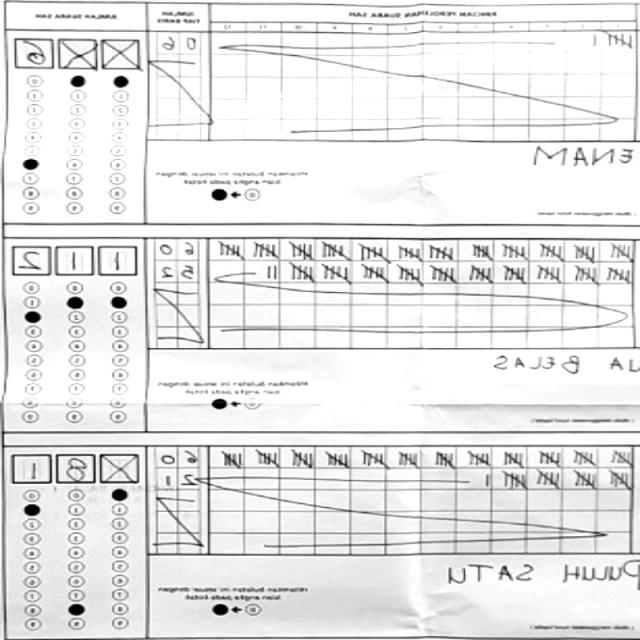Suara: (12, 239, 143, 279), (10, 448, 145, 486), (12, 33, 143, 72)
